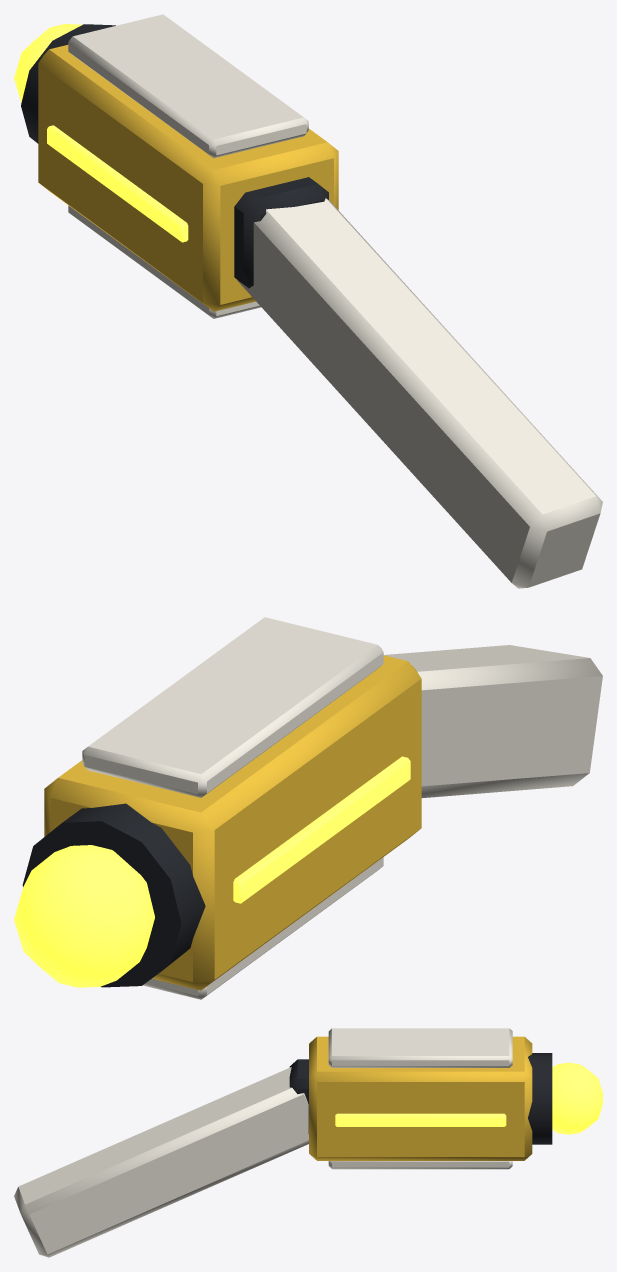
File: weapon_sol.glb
The picture shows the model from 3 angles, top to bottom: view 1: azimuth 30°, elevation 25°; view 2: azimuth 150°, elevation 25°; view 3: azimuth 270°, elevation 25°; orthographic projection. The views are drawn at different scales.
Parts seen in each view (by area): view 1: weapon; view 2: weapon; view 3: weapon.
Boxes of the visible parts, bbox=[...] form: weapon: bbox=[14, 14, 602, 588]; weapon: bbox=[14, 617, 602, 999]; weapon: bbox=[14, 1028, 602, 1257].
Size of the model in its own units: 0.1979 by 0.3164 by 0.8964.
